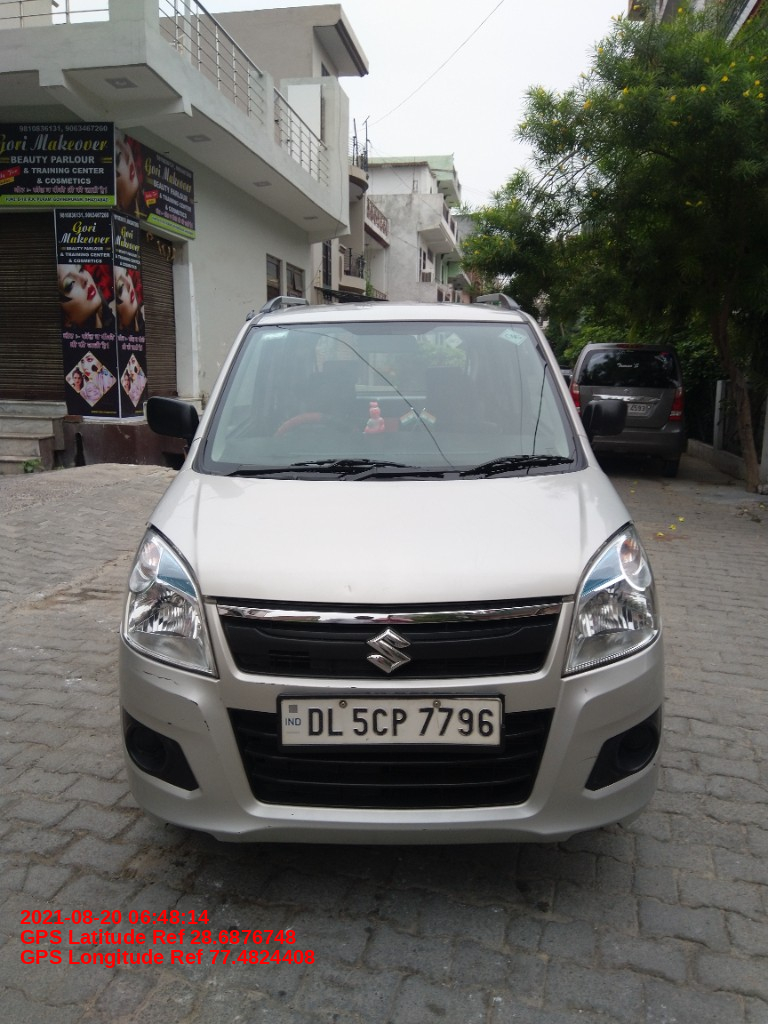Pressed: (340, 583, 359, 601)
Scratched: (185, 694, 214, 735), (134, 664, 185, 687), (575, 750, 598, 764), (579, 684, 594, 698), (414, 824, 430, 835), (165, 716, 176, 728), (235, 828, 245, 839), (285, 811, 298, 819)
